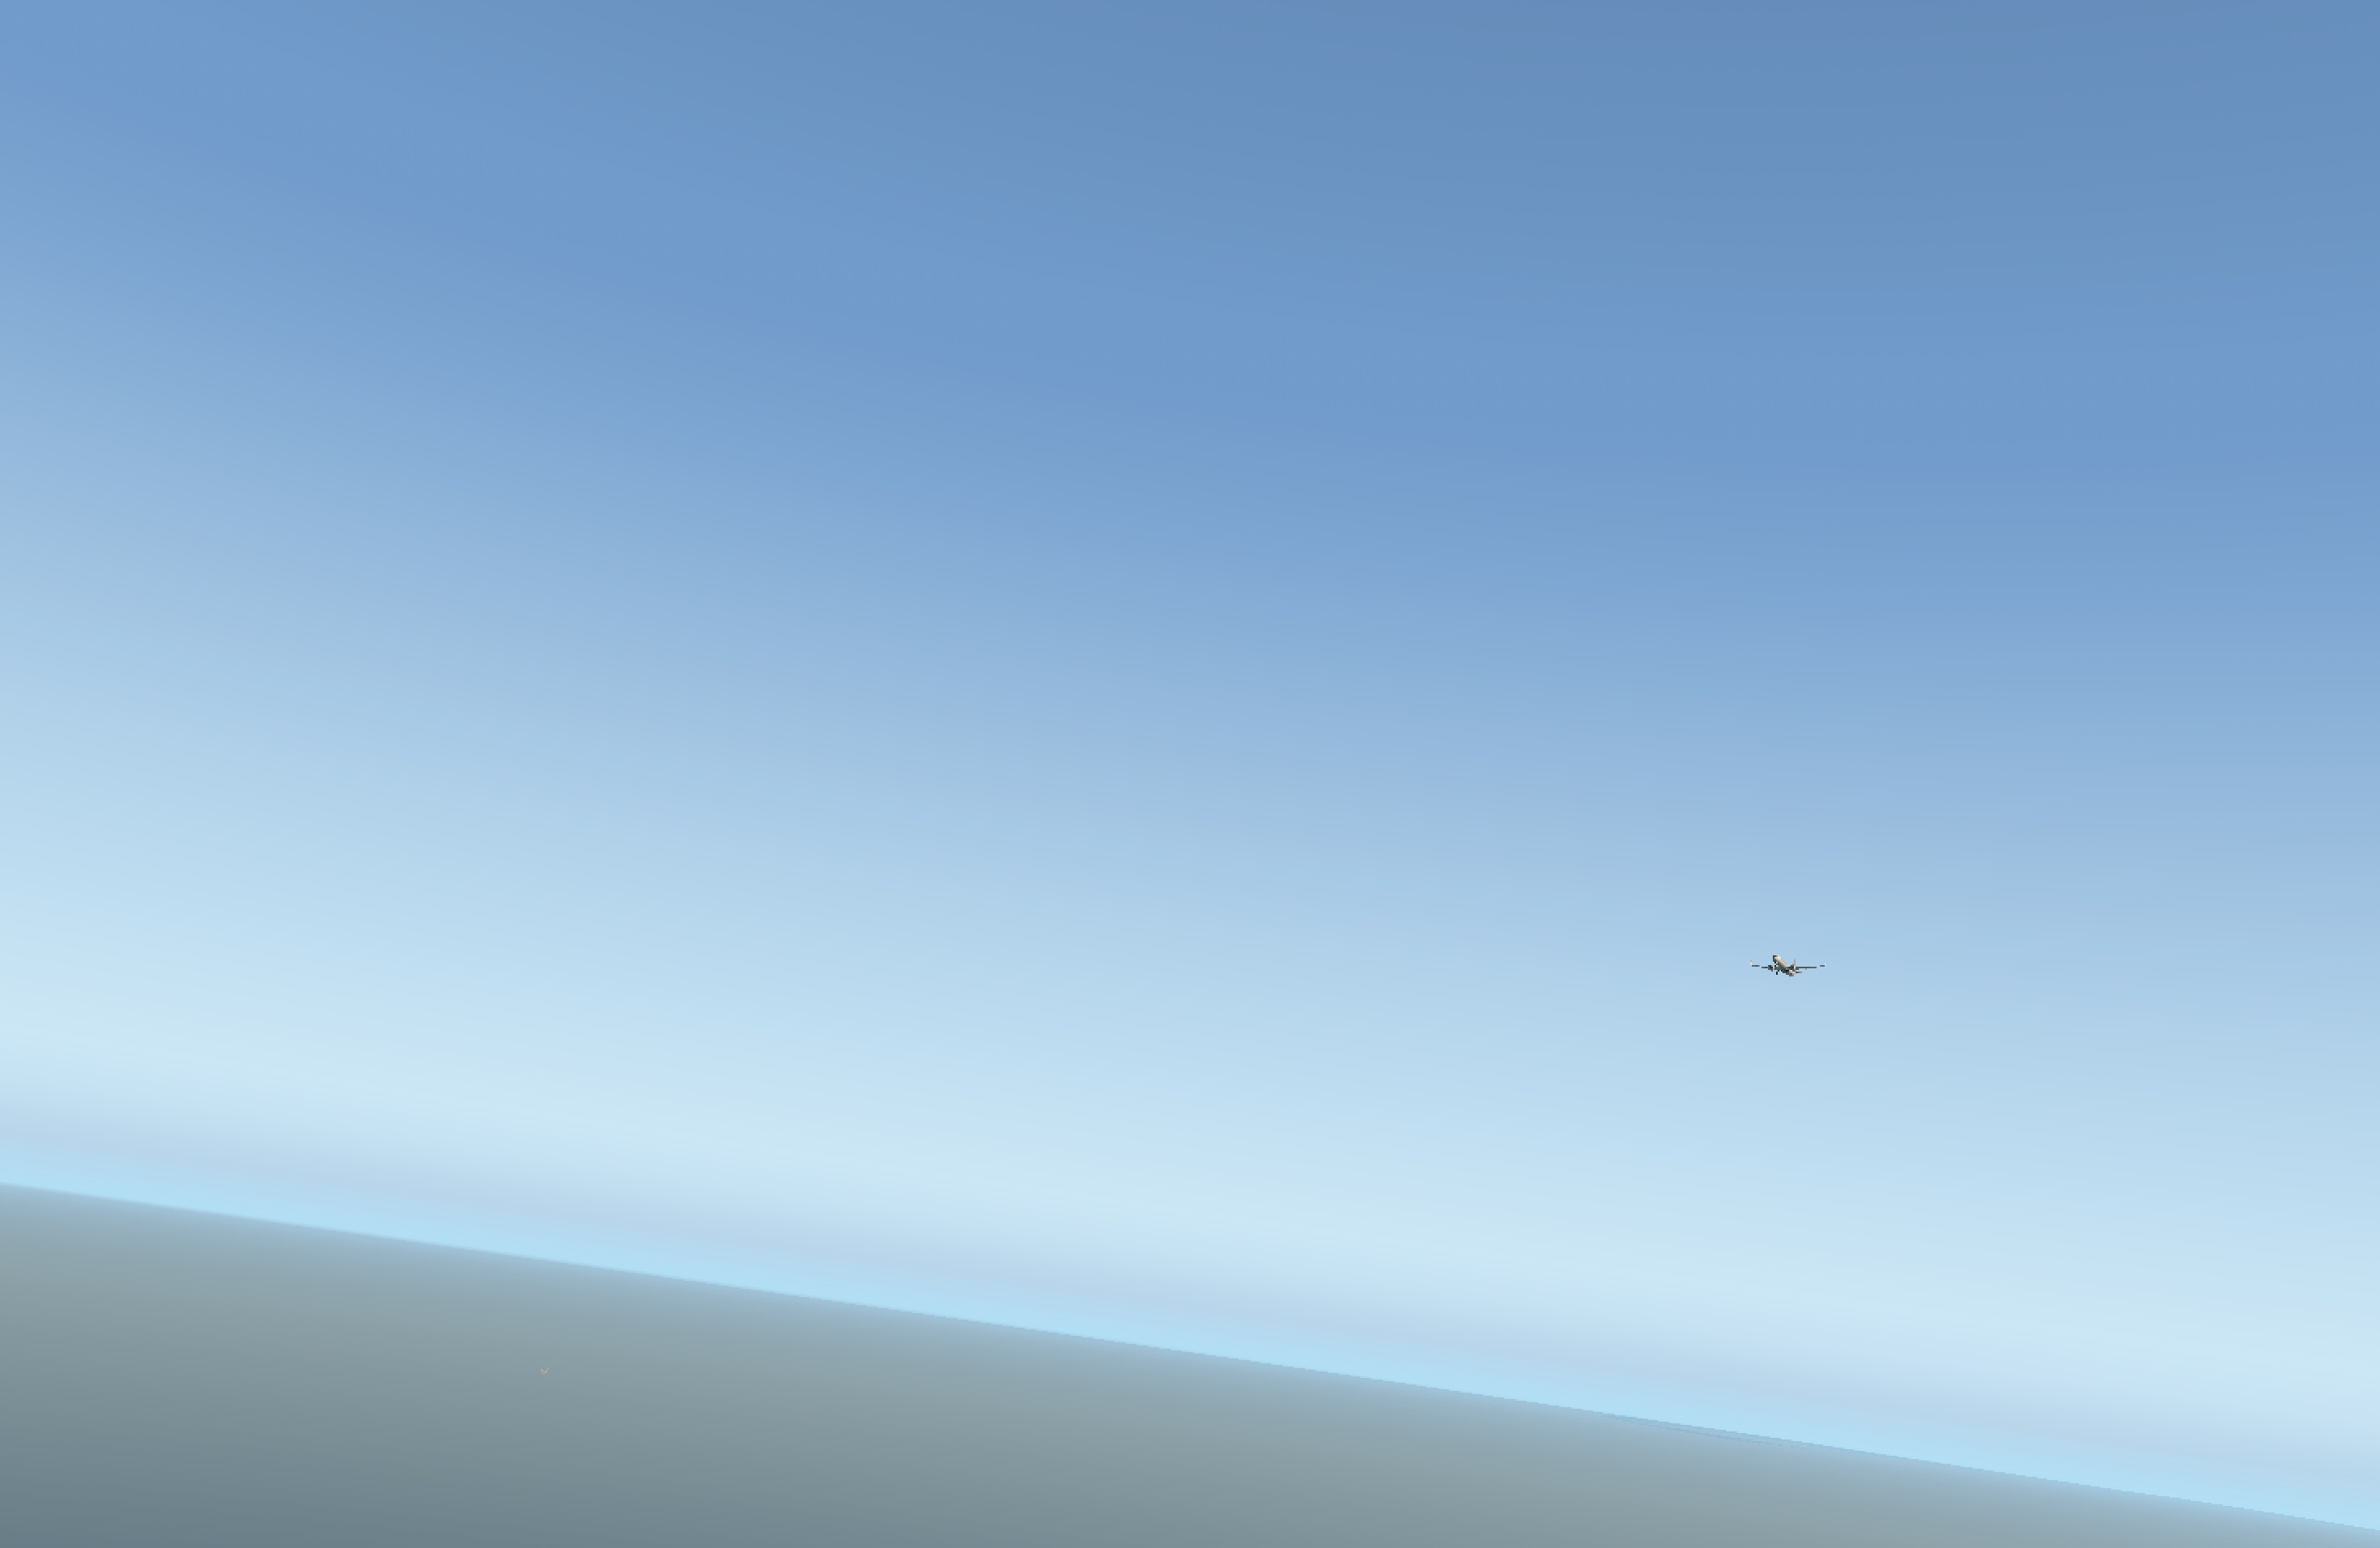aircraft: (1743, 953, 1825, 982)
